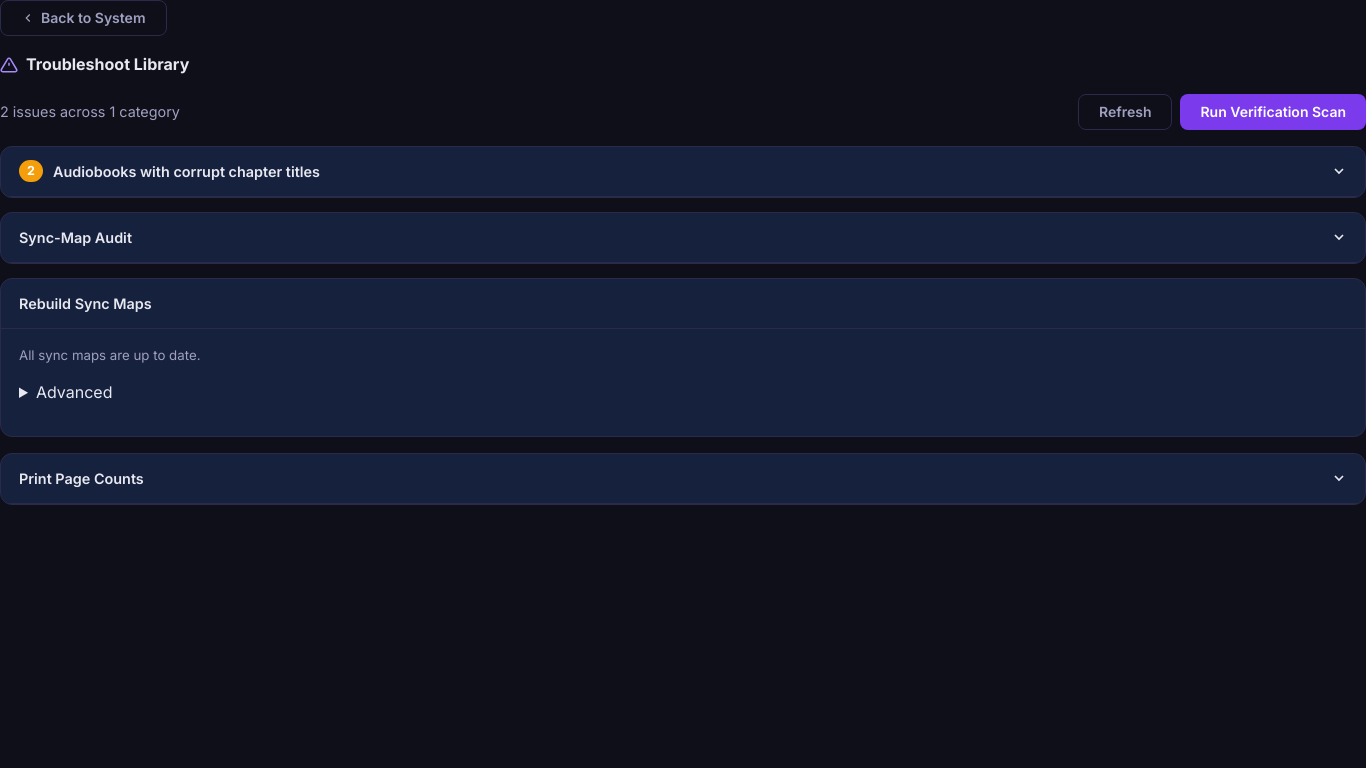
Test case: TroubleshootPage chapter encoding repair › bulk-repairs selected rows and shows a warning listing failures
Click the heading "2 Audiobooks with corrupt chapter titles": (170, 171) [19,160,320,182]
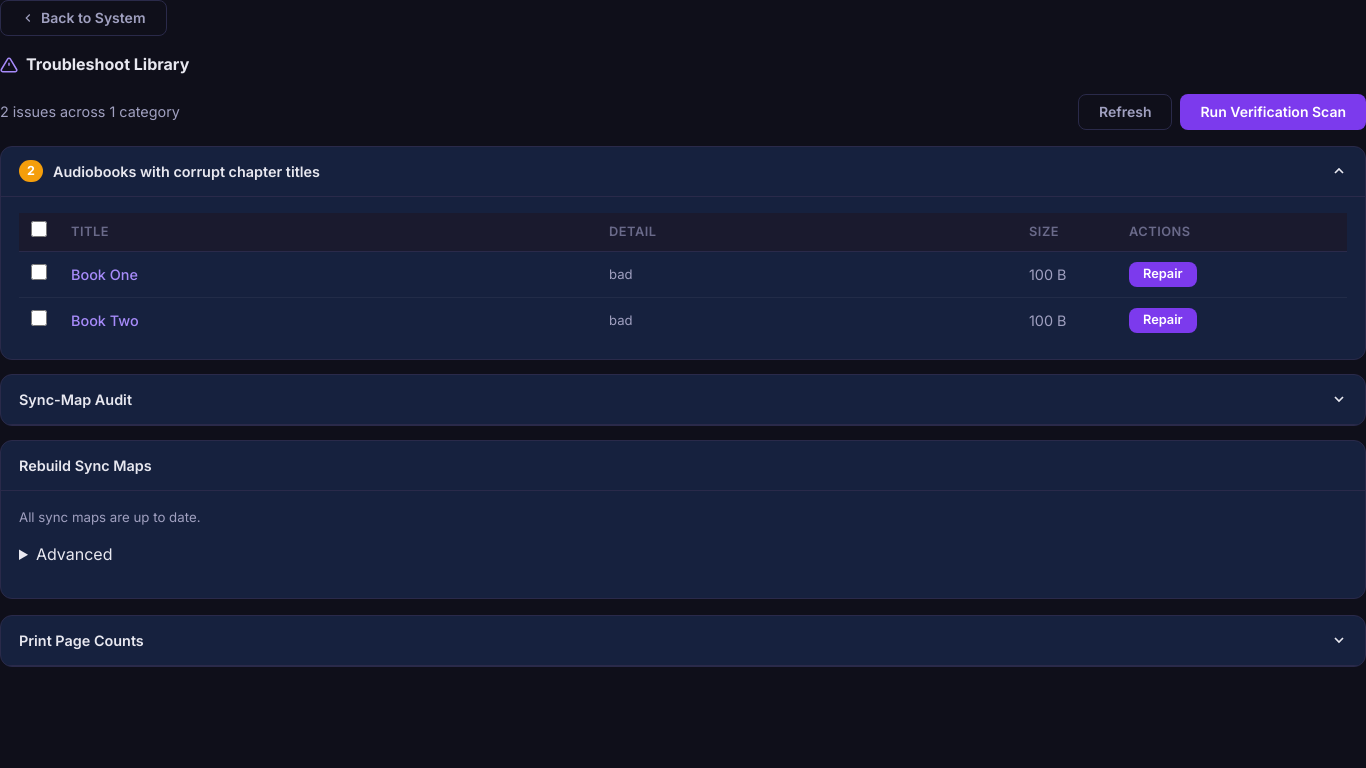
Click the 2nd checkbox: (39, 272) [31,264,47,280]
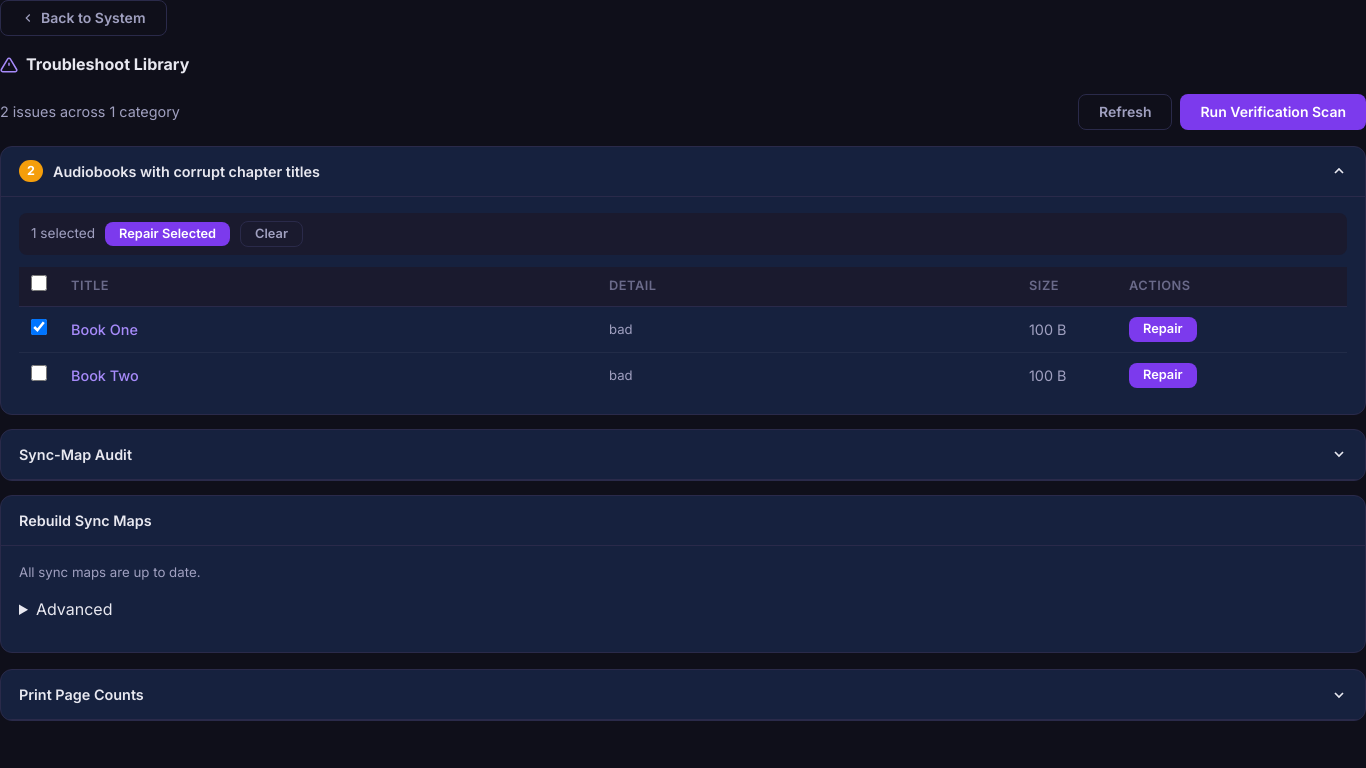
Click the 3rd checkbox: (39, 373) [31,365,47,381]
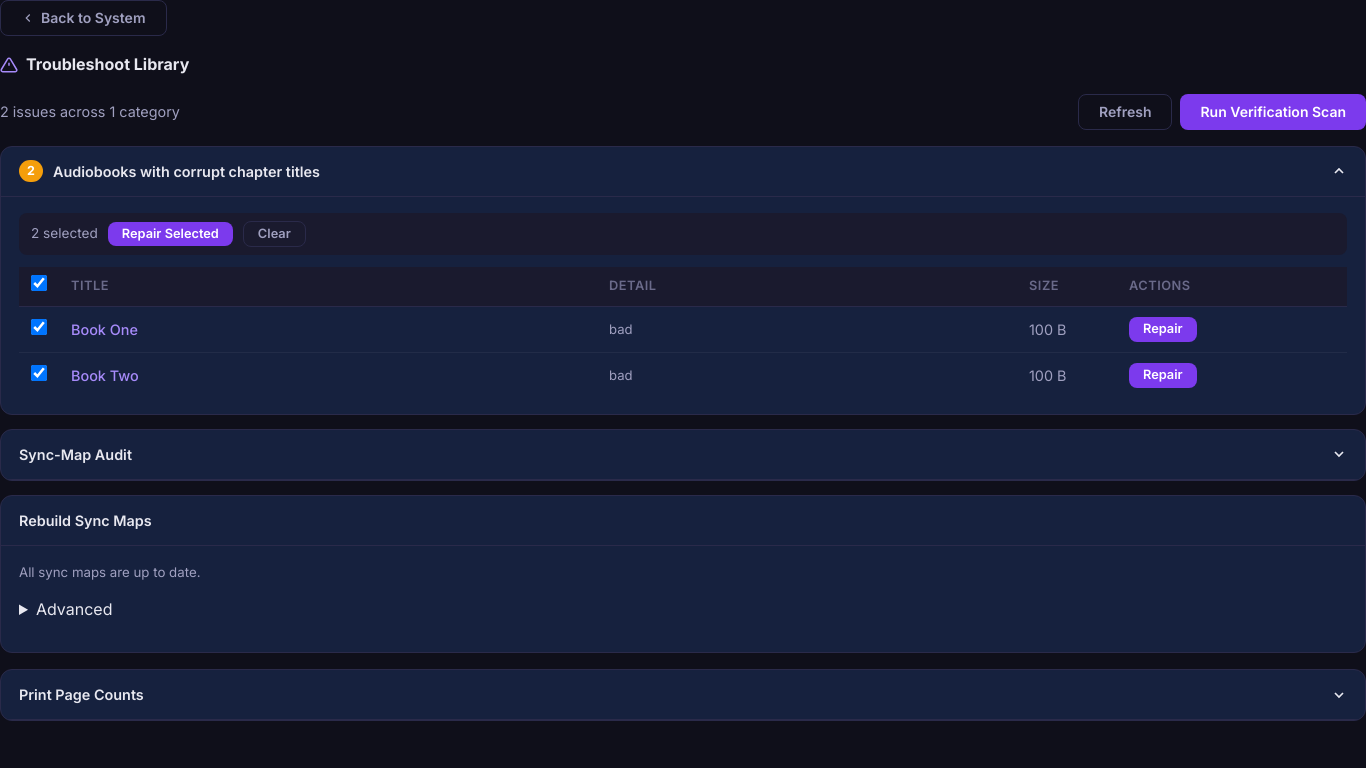
Click the button "Repair Selected": (170, 234) [108,222,233,246]
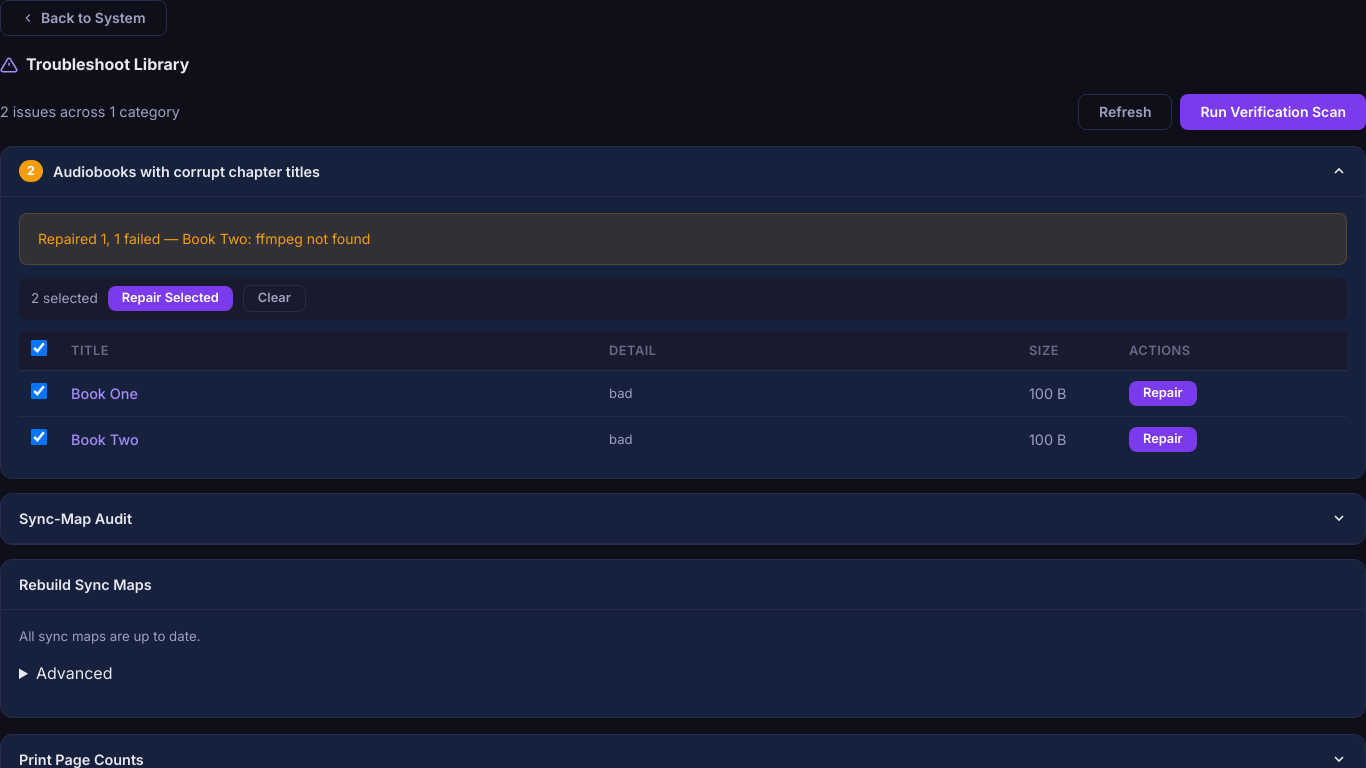
Check: the text "Repaired 1, 1 failed — Book Two: ffmpeg not found" is shown, box [19,213,1347,265]
